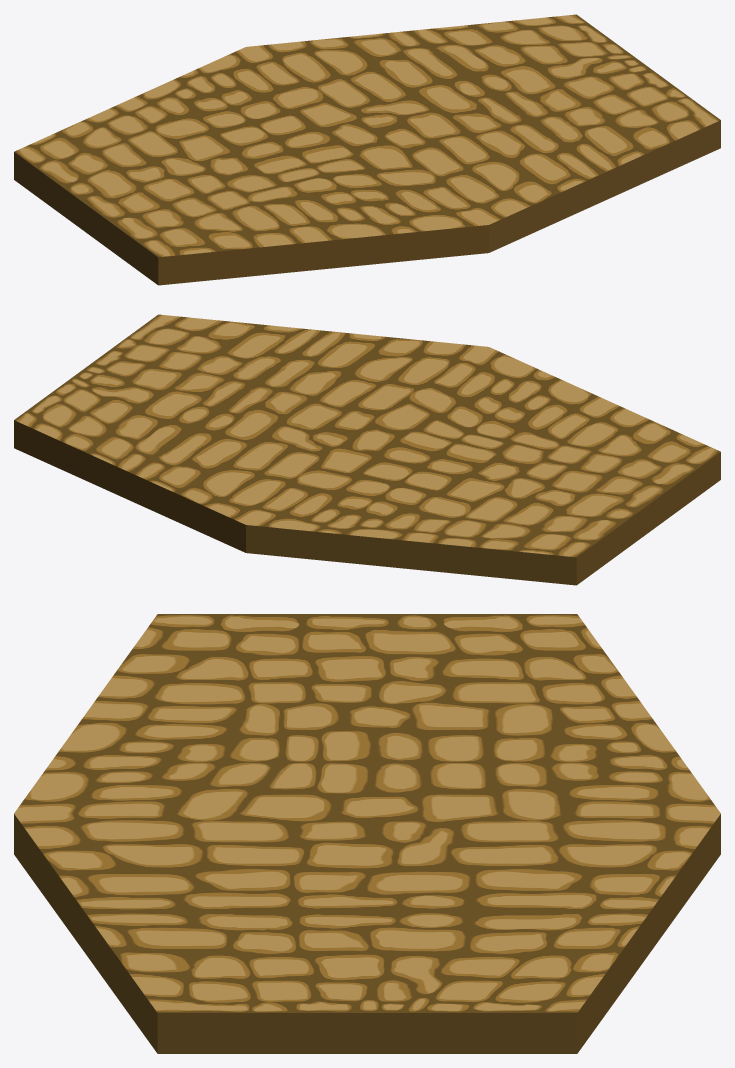
File: openroad (1).fbx
The picture shows the model from 3 angles, top to bottom: view 1: azimuth 30°, elevation 25°; view 2: azimuth 150°, elevation 25°; view 3: azimuth 270°, elevation 25°; orthographic projection. The views are drawn at different scales.
Parts seen in each view (by area): view 1: openroad; view 2: openroad; view 3: openroad.
Part boxes in pixels (x1,y1,x2,y2): openroad: (14,14,720,285); openroad: (14,314,720,585); openroad: (14,614,720,1053).
Bounding box in the file's own units: 24.04 × 1.15 × 18.
Materials: 1 (1 with a texture image).
